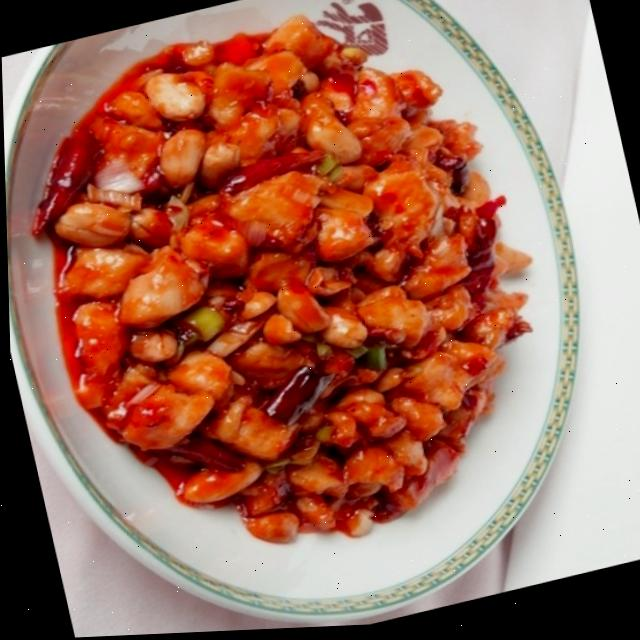鸡肉料理 含炸鸡: (12, 0, 537, 558)
